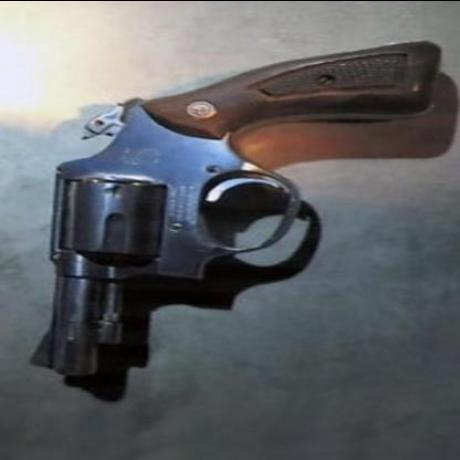weapon: (13, 33, 446, 413)
